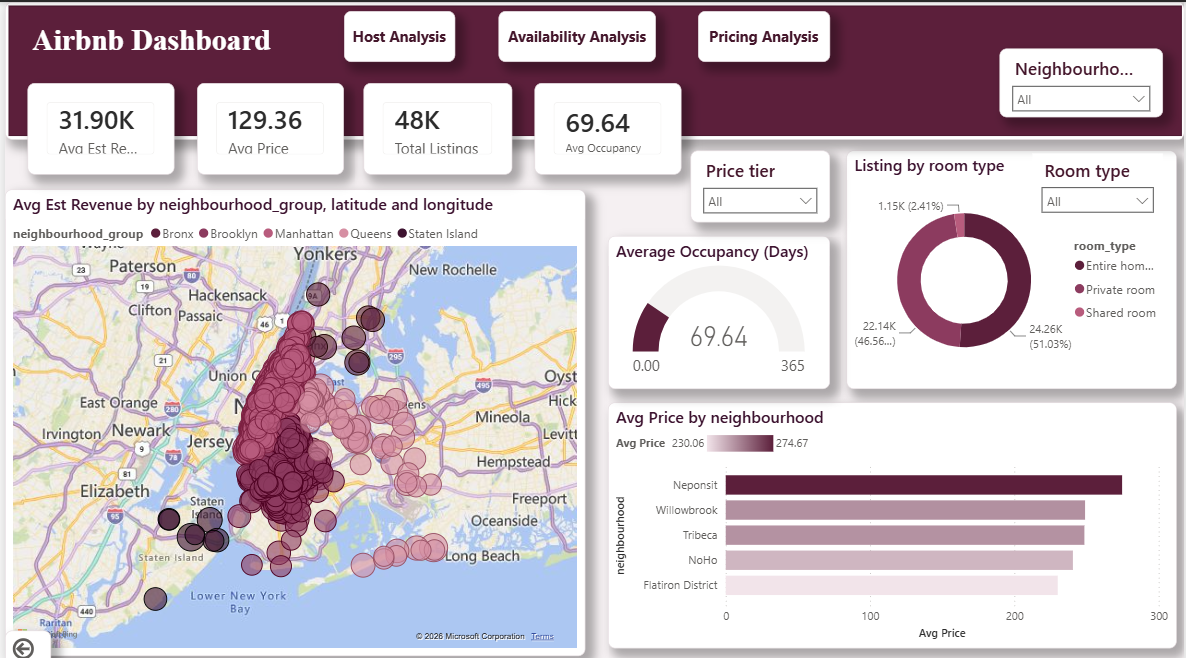

This screenshot's page, from the dashboard's own definition file:
{"tool":"powerbi","page":{"name":"Page 1","canvas":[1280,720],"ordinal":0},"visuals":[{"type":"cardVisual","fields":{"Data":["airbnb_analysis listings.Avg Est Revenue"]},"box":[0,0,198.8,205.4],"z":0},{"type":"cardVisual","fields":{"Data":["airbnb_analysis listings.Avg Price"]},"box":[198.8,0,198.8,205.4],"z":1000},{"type":"cardVisual","fields":{"Data":["airbnb_analysis listings.Total Listings"]},"box":[339.6,0,198.8,205.4],"z":2000},{"type":"cardVisual","fields":{"Data":["airbnb_analysis listings.Avg Occupancy"]},"box":[492,0,198.8,203.7],"z":3000},{"type":"map","fields":{"Y":["airbnb_analysis listings.latitude"],"X":["airbnb_analysis listings.longitude"],"Size":["airbnb_analysis listings.Avg Est Revenue"],"Series":["airbnb_analysis listings.neighbourhood_group"]},"box":[0,241.8,571.5,424.1],"z":4000},{"type":"slicer","fields":{"Values":["airbnb_analysis listings.room_type"]},"box":[581.7,241.7,275,131.7],"z":4001},{"type":"slicer","fields":{"Values":["airbnb_analysis listings.price_tier"]},"box":[581.7,373.3,211.7,155],"z":4002}]}

Visuals, with their boxes in screenshot pixels (x1, y1, x2, y2), scaled from the page's 1280x720 canvas onto the 1186x658 screenshot:
cardVisual - airbnb_analysis listings.Avg Est Revenue: select_region(0, 0, 184, 188)
cardVisual - airbnb_analysis listings.Avg Price: select_region(184, 0, 368, 188)
cardVisual - airbnb_analysis listings.Total Listings: select_region(315, 0, 499, 188)
cardVisual - airbnb_analysis listings.Avg Occupancy: select_region(456, 0, 640, 186)
map - airbnb_analysis listings.latitude x airbnb_analysis listings.longitude: select_region(0, 221, 530, 609)
slicer - airbnb_analysis listings.room_type: select_region(539, 221, 794, 341)
slicer - airbnb_analysis listings.price_tier: select_region(539, 341, 735, 483)
